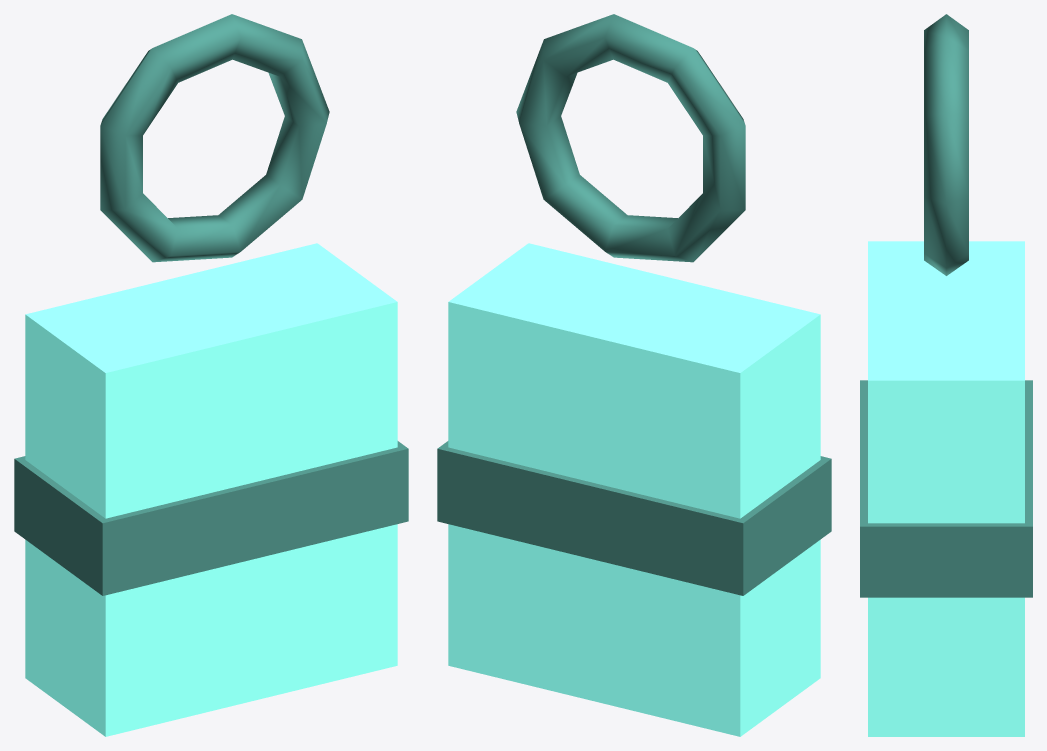
Rendered from totemace.glb.
The picture shows the model from 3 angles, left to right: view 1: azimuth 30°, elevation 25°; view 2: azimuth 150°, elevation 25°; view 3: azimuth 270°, elevation 25°; orthographic projection. The views are drawn at different scales.
Bounding box in the file's own units: 0.44 × 0.8974 × 0.22.
